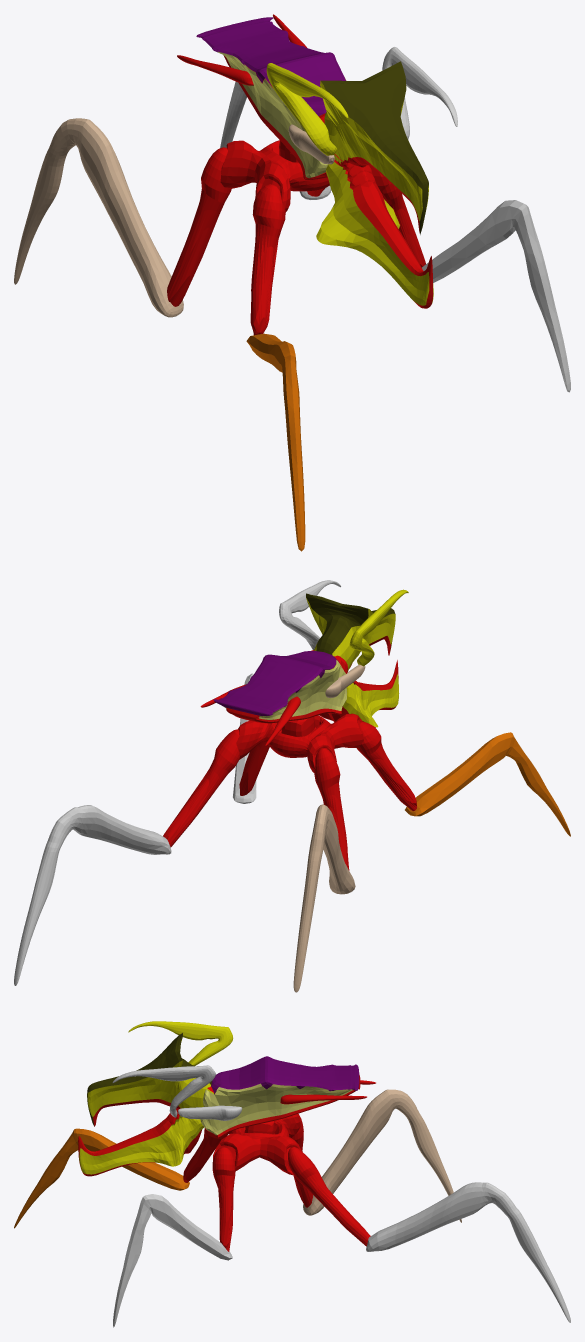
The model's file is aracnido_000018.obj.
3 views of the same model, one above another, from view 1: azimuth 30°, elevation 25°; view 2: azimuth 150°, elevation 25°; view 3: azimuth 270°, elevation 25° (orthographic). The views are drawn at different scales.
Visible parts, largest first — view 1: ARAK-BODY-; view 2: ARAK-BODY-; view 3: ARAK-BODY-.
Boxes of the visible parts, box(x1,y1,x2,y2) form: ARAK-BODY-: box(14, 14, 570, 551); ARAK-BODY-: box(14, 580, 570, 992); ARAK-BODY-: box(14, 1021, 570, 1327).
Size of the model in its own units: 2.64 by 2.62 by 5.3.
